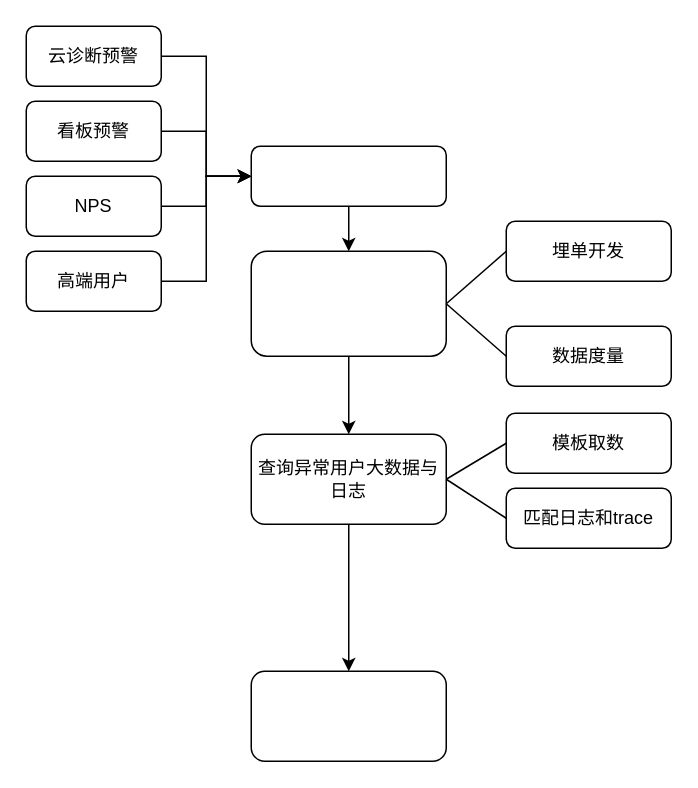
Some shapes in this 698 by 788 pixel diagram are drawn without their labels. Each missing label, with the box of its shape:
大数据异常指标分析: (250, 670, 446, 761)
异常信息确认 异常指标、异常时间、异常版本等: (250, 250, 446, 356)
收集异常预警: (250, 145, 446, 206)
